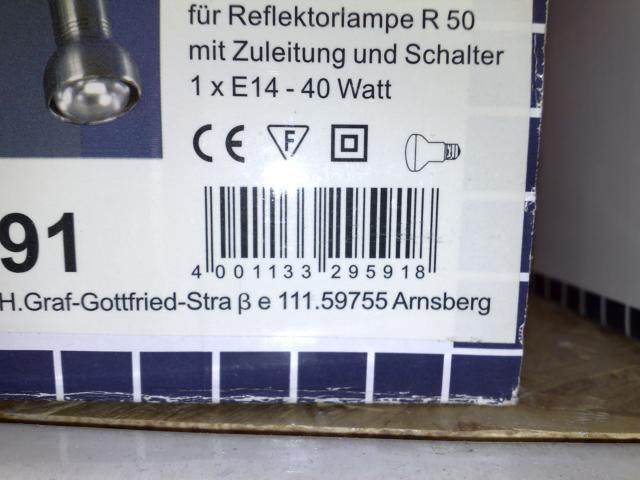Barcode: (180, 176, 456, 289)
